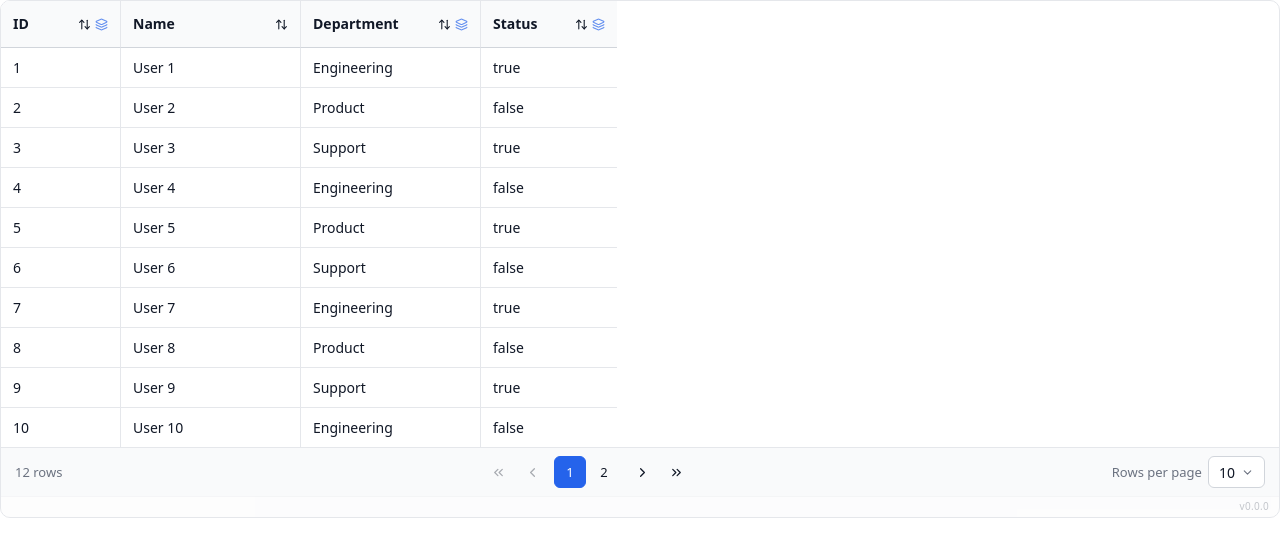
Test: DataTable - pagination › Next and Previous move between pages in uncontrolled client mode
What coordinates should you click on to do the following:
click the button named "Next page"
I would click on:
 (642, 472)
Its box is x1=626 y1=456 x2=658 y2=488.
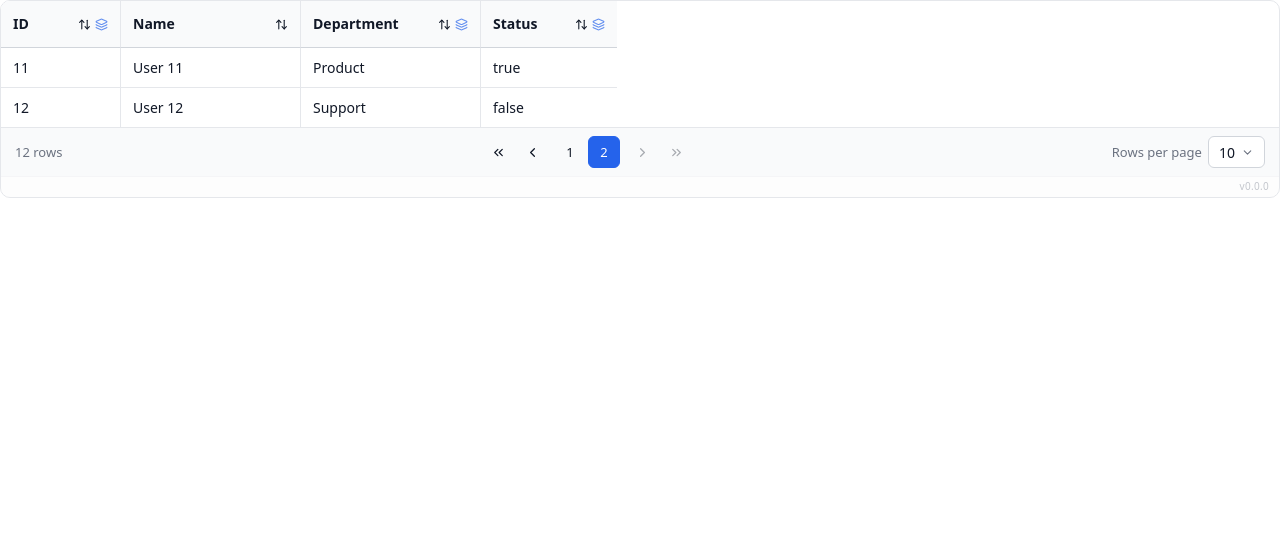
Result: the text "User 11" is shown at x1=121 y1=48 x2=301 y2=88
Result: the text "User 12" is shown at x1=121 y1=88 x2=301 y2=127
What coordinates should you click on to do the following:
click the button named "Previous page"
I would click on:
 (532, 152)
Its box is x1=516 y1=136 x2=548 y2=168.
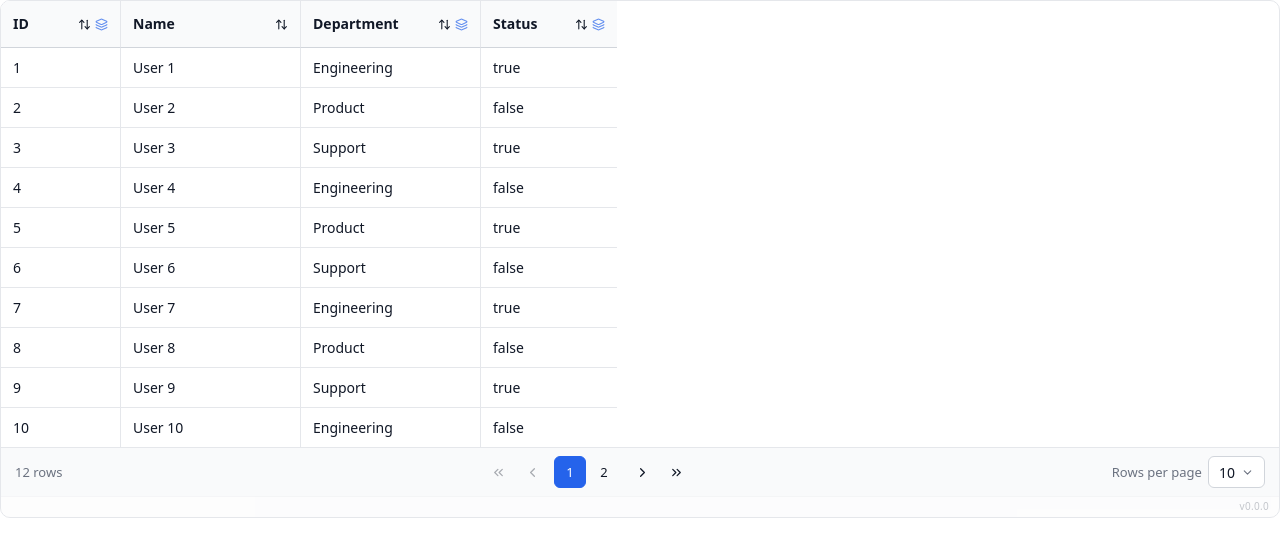
Expected: the text "User 1" is shown, x1=121 y1=48 x2=301 y2=88
Result: the text "User 11" is gone
